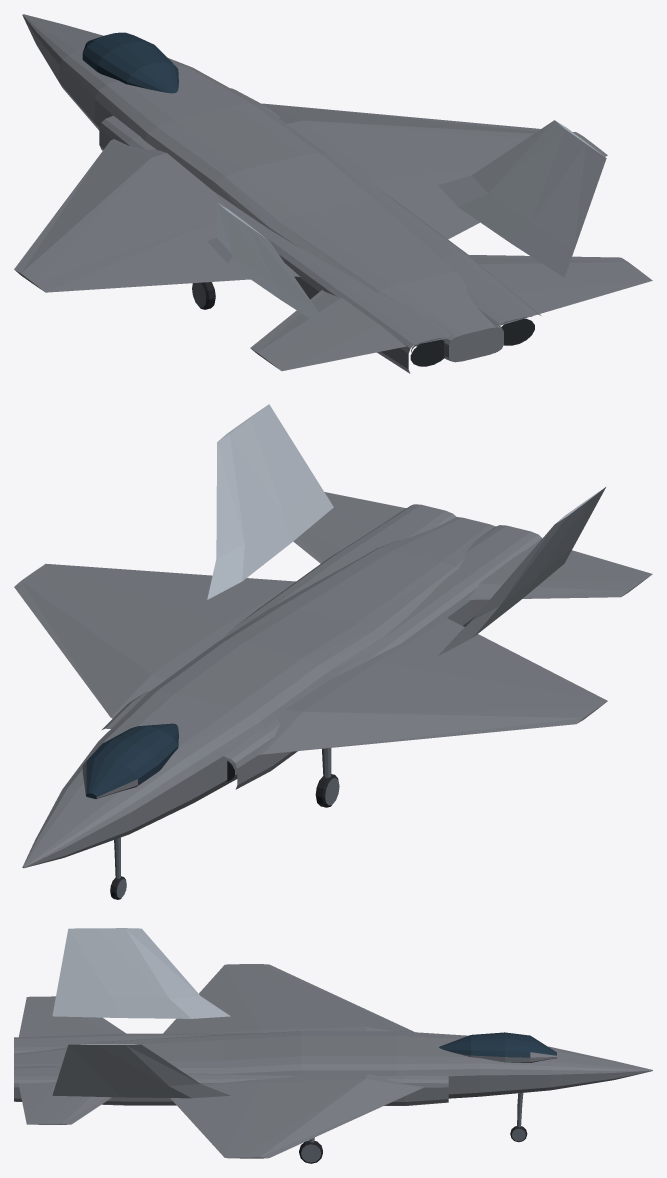
3 renders of one model, top to bottom at view 1: azimuth 30°, elevation 25°; view 2: azimuth 150°, elevation 25°; view 3: azimuth 270°, elevation 25°, orthographic. The views are drawn at different scales.
Parts seen in each view (by area): view 1: airframe, gear; view 2: airframe, gear; view 3: airframe, gear.
Boxes of the visible parts, x1,y1,x2,y2 form: airframe: (14,14,652,373); gear: (192,282,215,309); airframe: (14,404,652,867); gear: (110,748,339,899); airframe: (14,928,652,1158); gear: (299,1093,527,1163).
Bounding box in the file's own units: 13.56 × 5.06 × 18.92.
